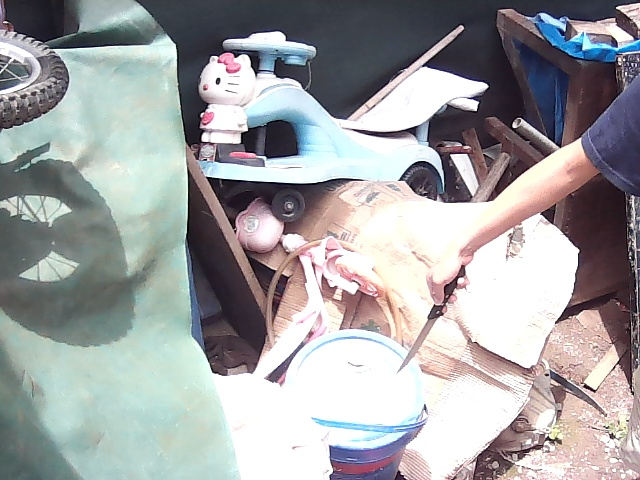cuchillo: (391, 298, 448, 377)
